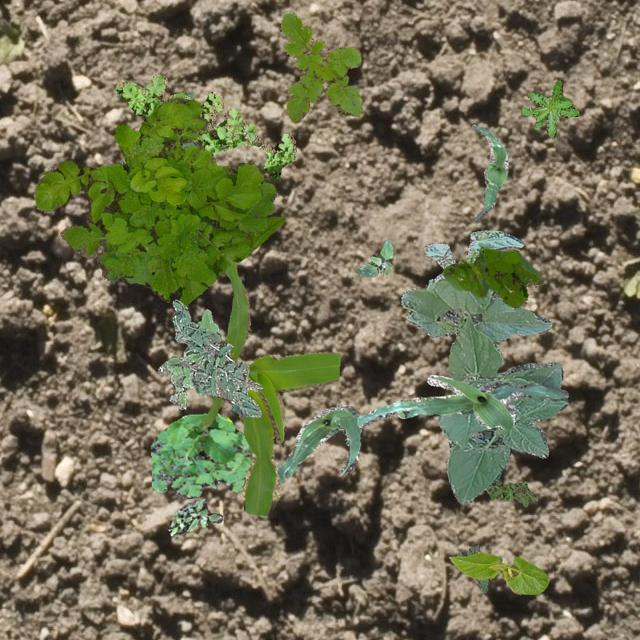crop: (400, 230, 568, 503), (202, 262, 340, 514), (357, 374, 568, 429), (276, 404, 360, 482), (448, 552, 548, 594), (471, 124, 506, 222)
weed: (34, 97, 284, 306), (113, 74, 294, 182), (168, 299, 262, 416), (278, 10, 362, 121), (150, 412, 252, 498), (158, 307, 218, 408), (442, 248, 542, 306), (520, 80, 578, 136), (168, 498, 222, 534), (455, 544, 487, 592), (354, 238, 392, 276), (486, 478, 536, 506), (180, 91, 196, 148)
